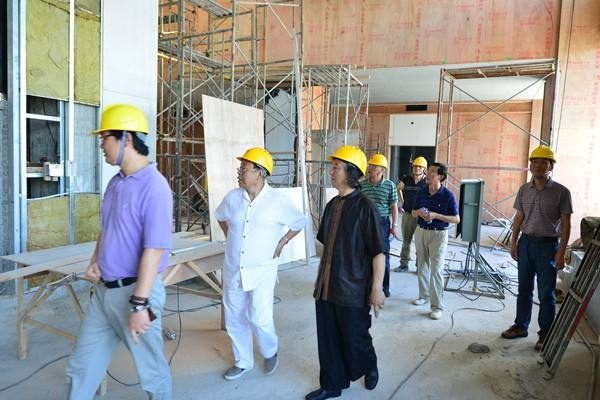none: (423, 162, 447, 189)
yellow: (93, 104, 148, 170), (326, 144, 367, 194), (234, 145, 275, 194), (527, 144, 555, 181), (365, 151, 388, 182), (410, 154, 427, 177)
